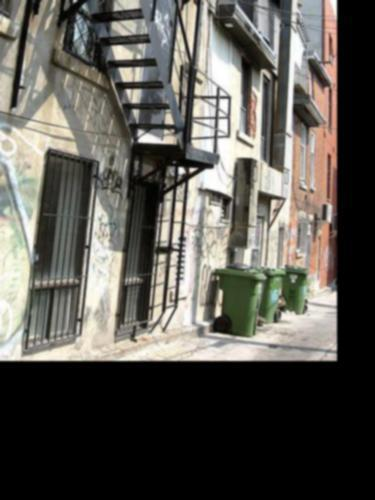Bote de Basura: (220, 262, 262, 337), (248, 260, 280, 323), (283, 265, 304, 314)
